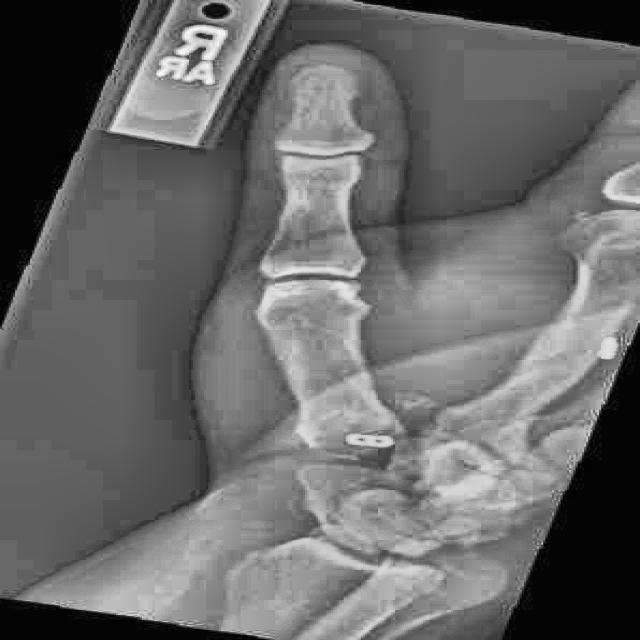fingers positive: (255, 150, 383, 213)
